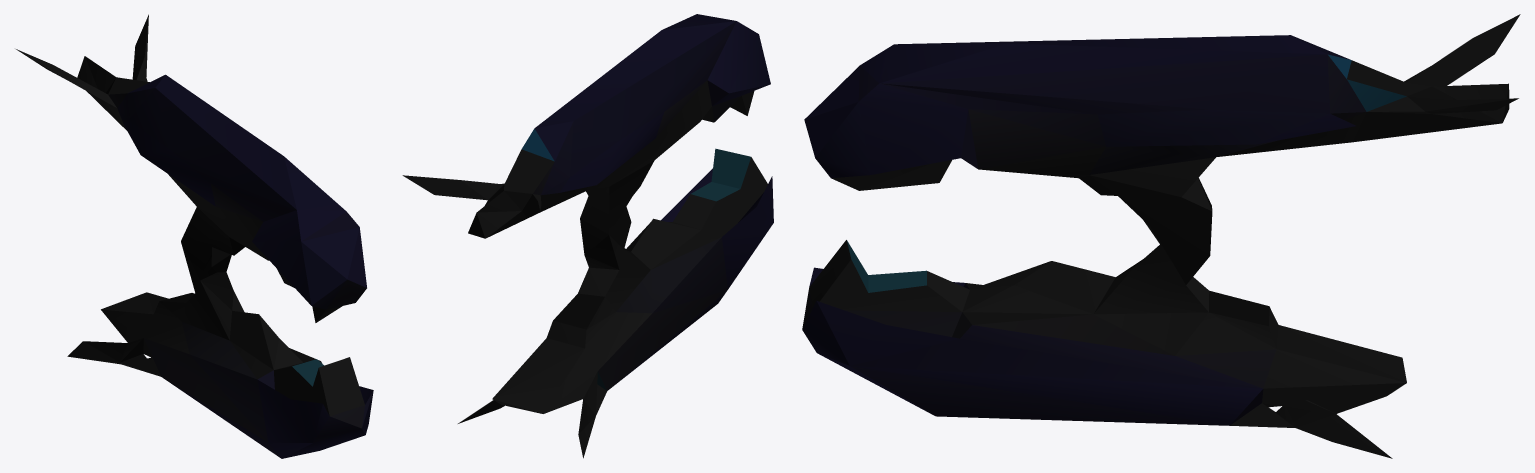
The model's file is Weapon_PlasmaRifle.fbx.
3 renders of one model, left to right at view 1: azimuth 30°, elevation 25°; view 2: azimuth 150°, elevation 25°; view 3: azimuth 270°, elevation 25°, orthographic. The views are drawn at different scales.
Visible parts, largest first — view 1: Weapon; view 2: Weapon; view 3: Weapon.
Boxes of the visible parts, <box> form: Weapon: <box>16,14,373,458</box>; Weapon: <box>402,14,773,458</box>; Weapon: <box>802,14,1520,458</box>.
Size of the model in its own units: 2.83 by 5.85 by 9.89.
